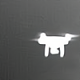plane: (29, 31, 79, 58)
